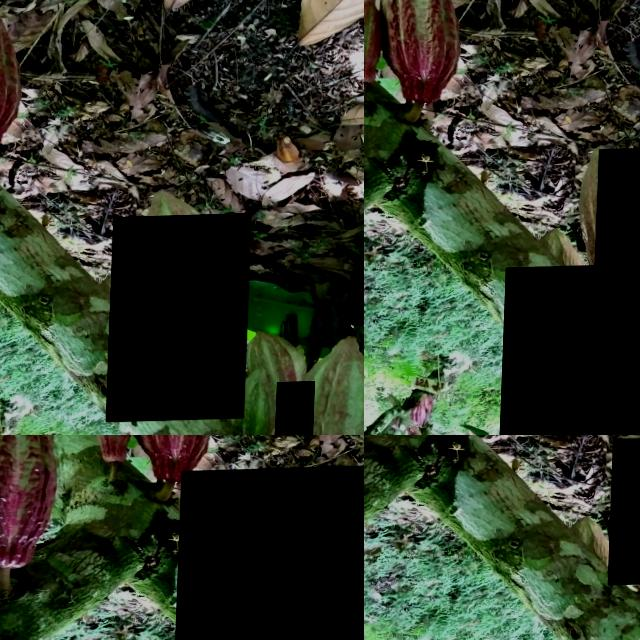Fitoftora: (594, 148, 640, 372)
Sana: (172, 467, 364, 640), (109, 216, 253, 424), (501, 266, 640, 435), (611, 439, 640, 587), (278, 384, 318, 435)
